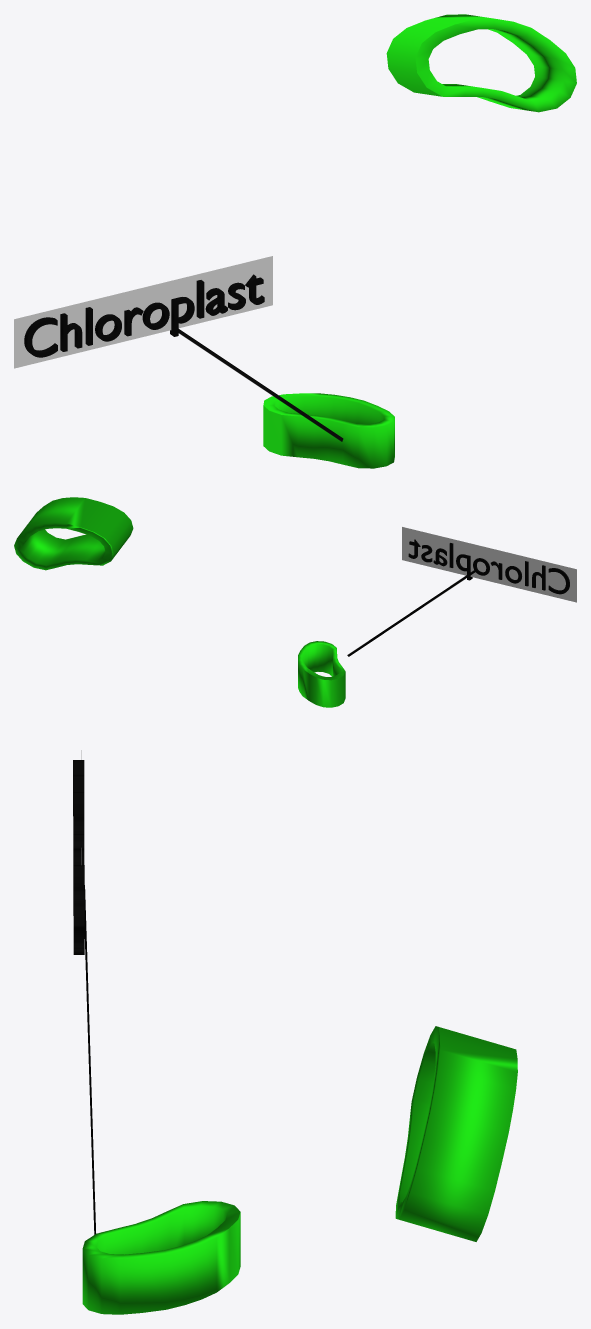
File: chloroplast.gltf
3 renders of one model, top to bottom at view 1: azimuth 30°, elevation 25°; view 2: azimuth 150°, elevation 25°; view 3: azimuth 270°, elevation 25°, orthographic. The views are drawn at different scales.
Visible parts, largest first — view 1: Verde_Interno, Plane.002, Text.002, Plane.028; view 2: Verde_Interno, Plane.002, Text.002, Plane.028; view 3: Verde_Interno, Text.002, Plane.028.
Boxes of the visible parts, bbox=[...] form: Verde_Interno: bbox=[263, 14, 576, 468]; Plane.002: bbox=[14, 256, 272, 368]; Text.002: bbox=[24, 274, 264, 357]; Plane.028: bbox=[178, 329, 343, 441]; Verde_Interno: bbox=[14, 497, 345, 707]; Plane.002: bbox=[402, 527, 576, 602]; Text.002: bbox=[408, 539, 569, 594]; Plane.028: bbox=[347, 570, 475, 656]; Verde_Interno: bbox=[82, 1026, 517, 1314]; Text.002: bbox=[73, 760, 84, 954]; Plane.028: bbox=[84, 885, 95, 1234].
Bounding box in the file's own units: 3.52 × 1.46 × 1.47.
